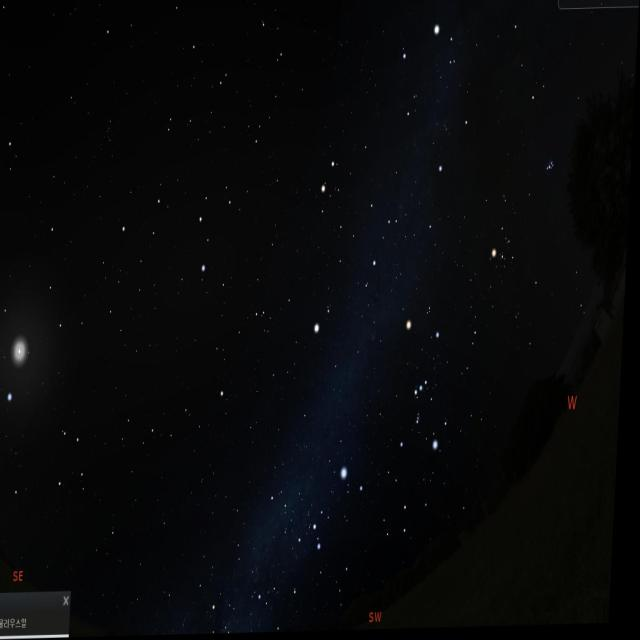canis_major: (313, 459, 384, 566)
canis_minor: (307, 295, 348, 346)
gemini: (310, 157, 407, 300)
leo: (119, 167, 240, 290)
moon: (4, 329, 47, 386)
orion: (395, 316, 457, 464)
pleiades: (533, 147, 562, 187)
taurus: (491, 136, 558, 286)
